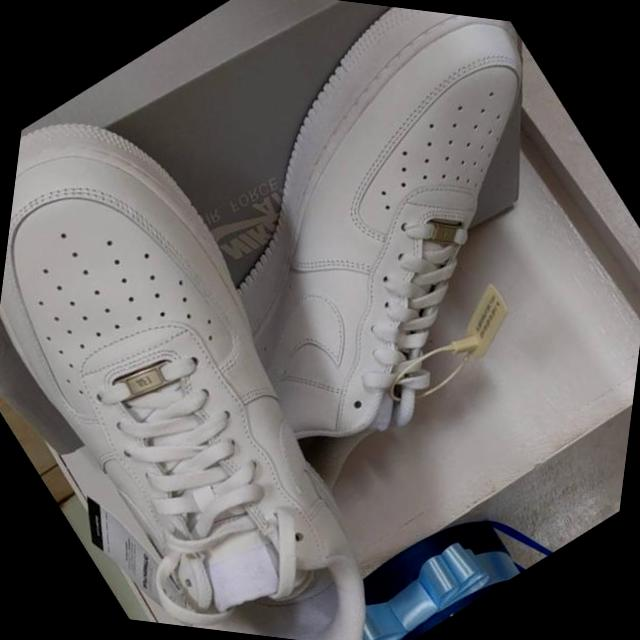nike_original_airforce: (33, 0, 640, 567), (0, 58, 517, 640)
